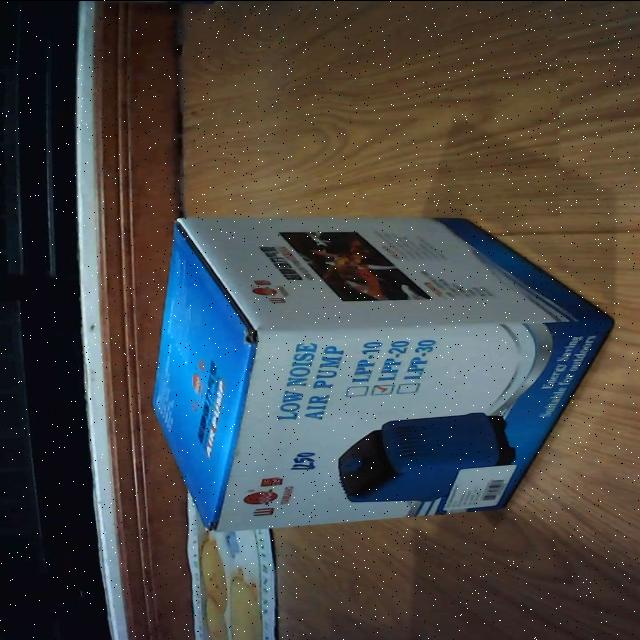YAMANO_LPP_20: (136, 205, 630, 533)
